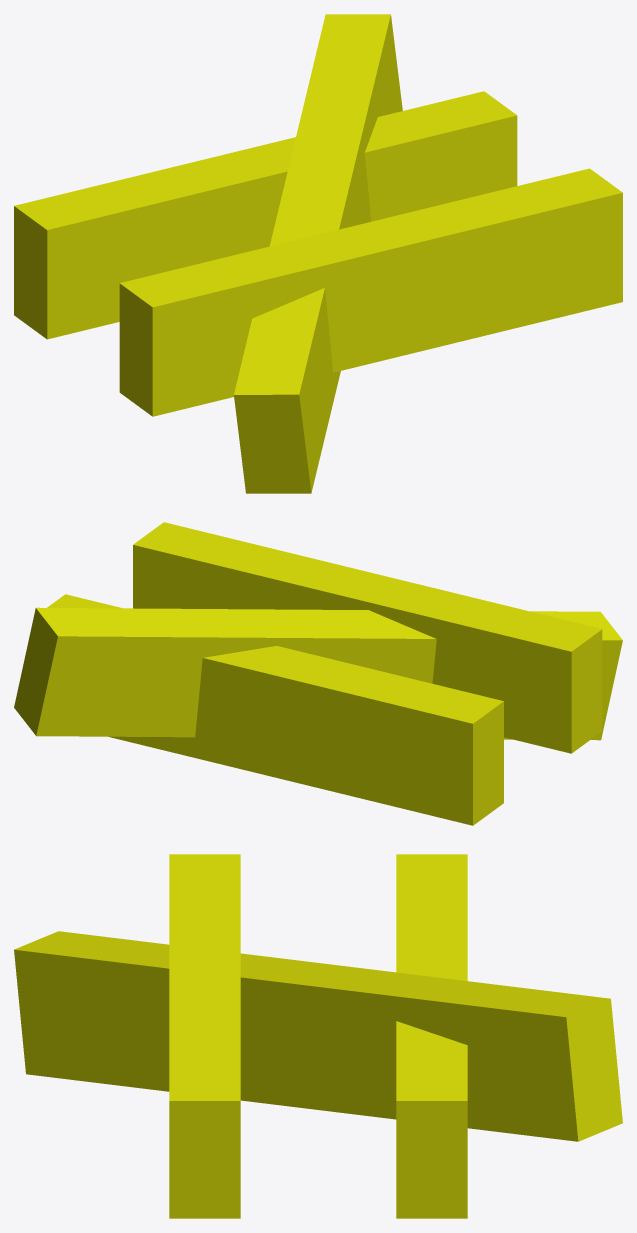
File: onicocauxis.gltf
3 renders of one model, top to bottom at view 1: azimuth 30°, elevation 25°; view 2: azimuth 150°, elevation 25°; view 3: azimuth 270°, elevation 25°, orthographic. The views are drawn at different scales.
Parts seen in each view (by area): view 1: Cubo.001, Cubo.002, Cubo; view 2: Cubo.002, Cubo.001, Cubo; view 3: Cubo, Cubo.001, Cubo.002.
Boxes of the visible parts, x1=… form: Cubo.001: x1=119, y1=168, x2=622, y2=416; Cubo.002: x1=14, y1=91, x2=517, y2=339; Cubo: x1=234, y1=14, x2=402, y2=493; Cubo.002: x1=47, y1=594, x2=503, y2=825; Cubo.001: x1=133, y1=522, x2=602, y2=753; Cubo: x1=14, y1=607, x2=622, y2=740; Cubo: x1=14, y1=931, x2=622, y2=1141; Cubo.001: x1=169, y1=854, x2=240, y2=1218; Cubo.002: x1=396, y1=854, x2=467, y2=1218.
Bounding box in the file's own units: 1.8 × 0.8016 × 1.88.
